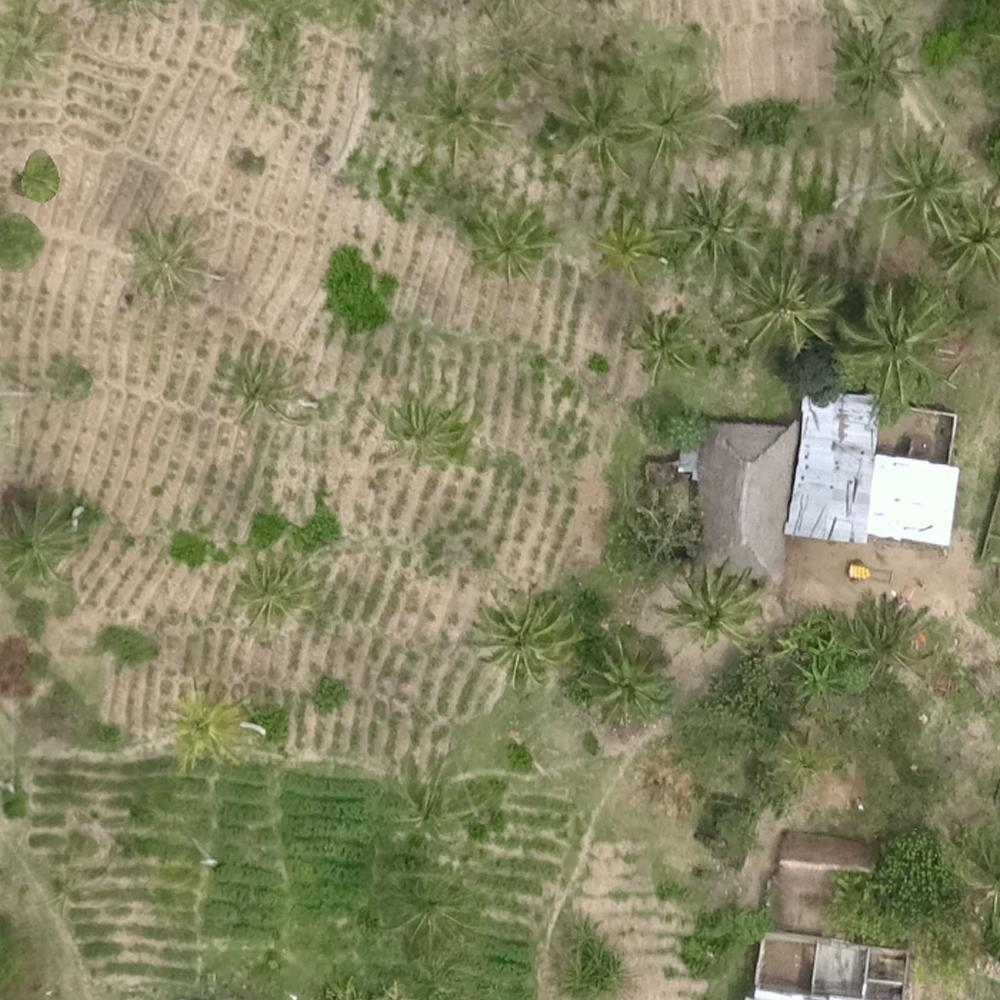Palm: (838, 288, 942, 400), (872, 132, 968, 238), (733, 255, 828, 350), (632, 68, 721, 161), (1, 498, 86, 590), (479, 592, 570, 675), (667, 180, 755, 263), (374, 392, 465, 471), (665, 563, 755, 642), (414, 75, 497, 160), (583, 636, 670, 715), (588, 206, 670, 289), (122, 216, 204, 299), (164, 686, 246, 766), (221, 346, 301, 427), (464, 208, 547, 283), (233, 554, 307, 622), (631, 306, 696, 369)
